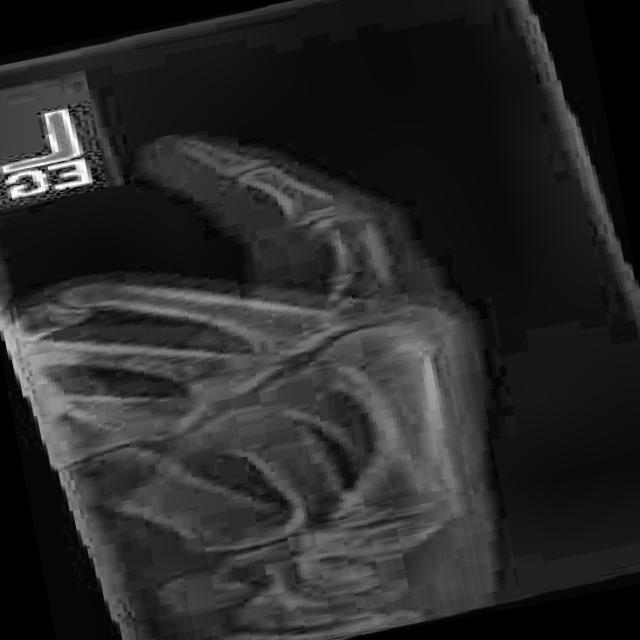fingers positive: (297, 254, 423, 311)
